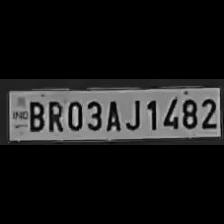0: (64, 98, 82, 132)
1: (141, 96, 158, 132)
2: (199, 96, 217, 130)
3: (84, 97, 102, 131)
4: (160, 94, 180, 130)
8: (179, 95, 197, 129)
A: (104, 97, 122, 131)
B: (26, 98, 44, 132)
J: (122, 96, 140, 132)
R: (45, 99, 63, 134)
